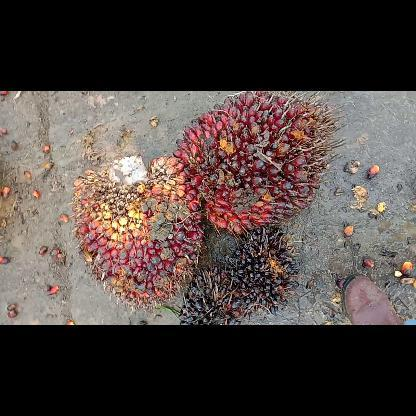TBS abnormal: (221, 222, 302, 314), (176, 264, 252, 324)
TBS masak: (171, 92, 346, 236), (70, 154, 204, 310)
